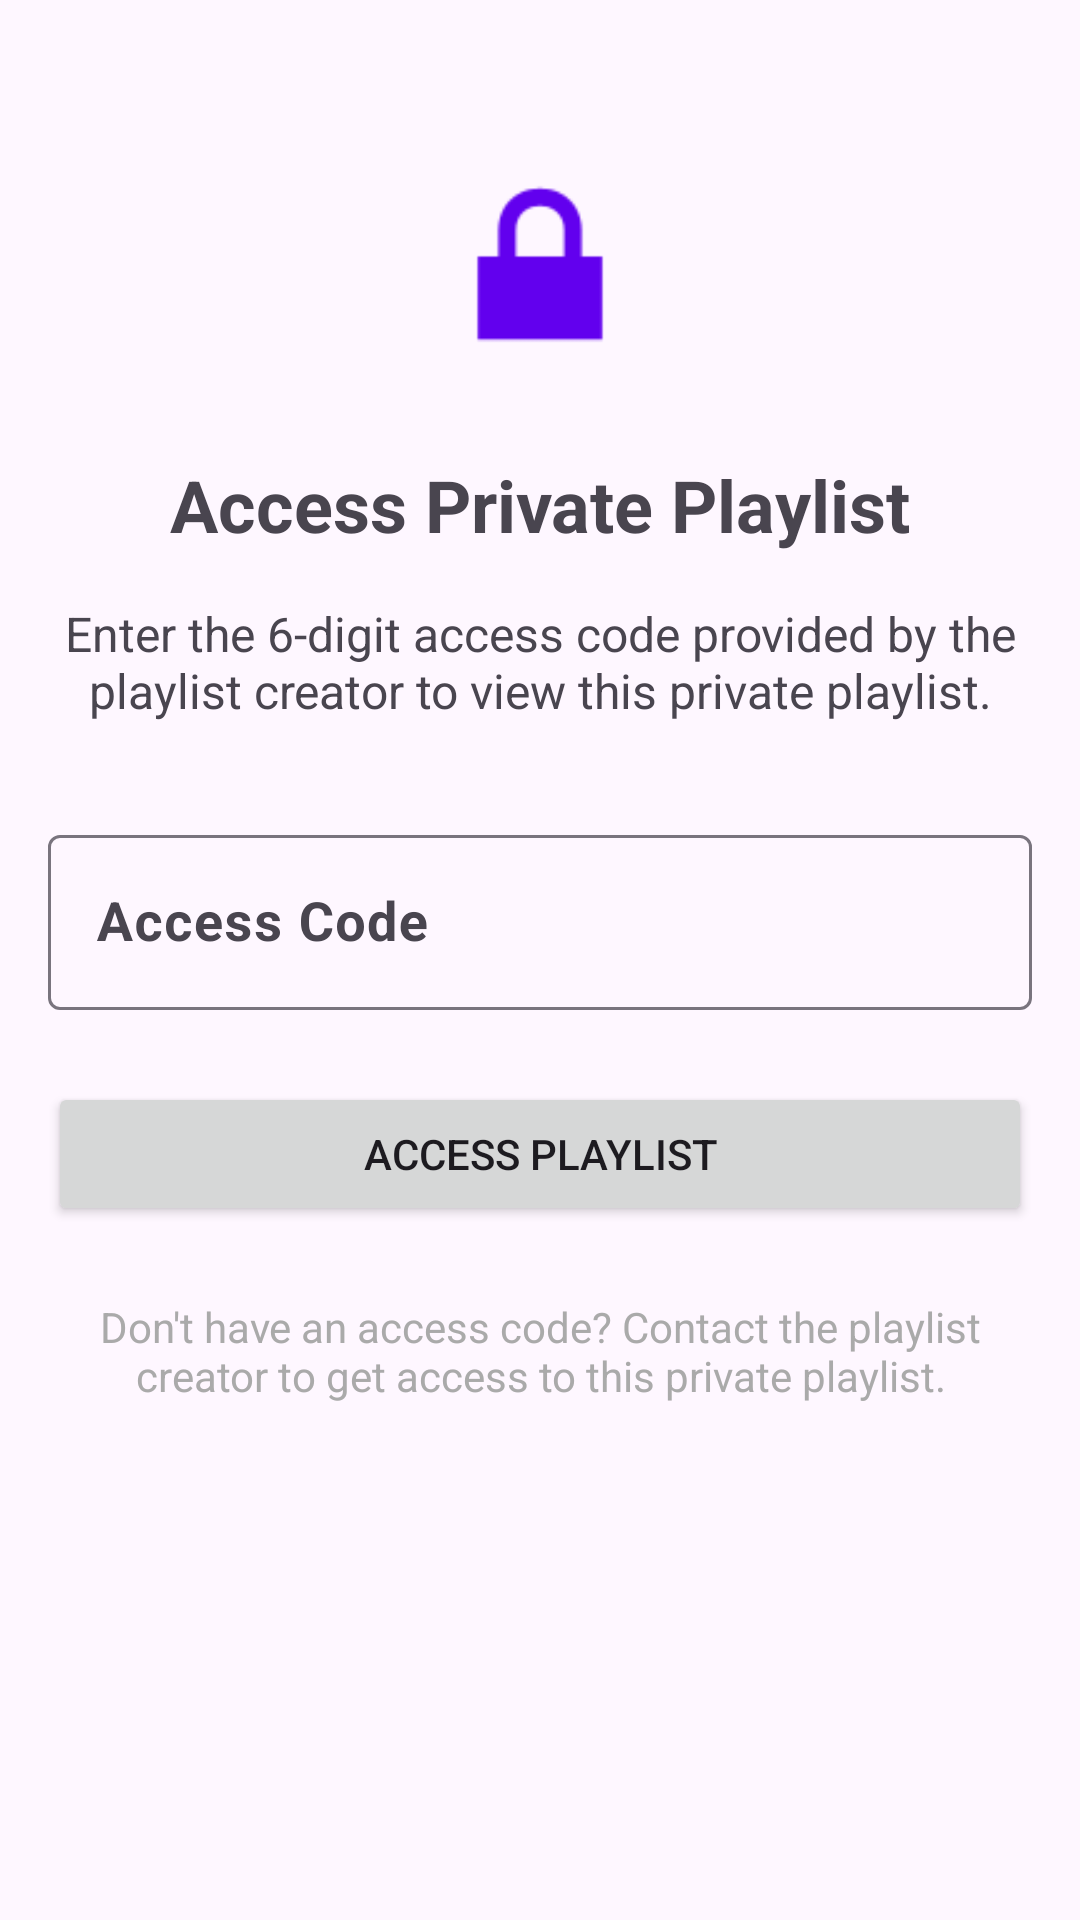

Point at icon controls on the screen. Image size 1080px×1920px, points as (x,y).
lock: (540,264)
